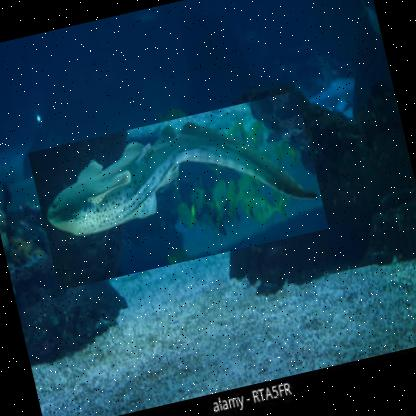zebra_shark: (28, 90, 330, 292)
